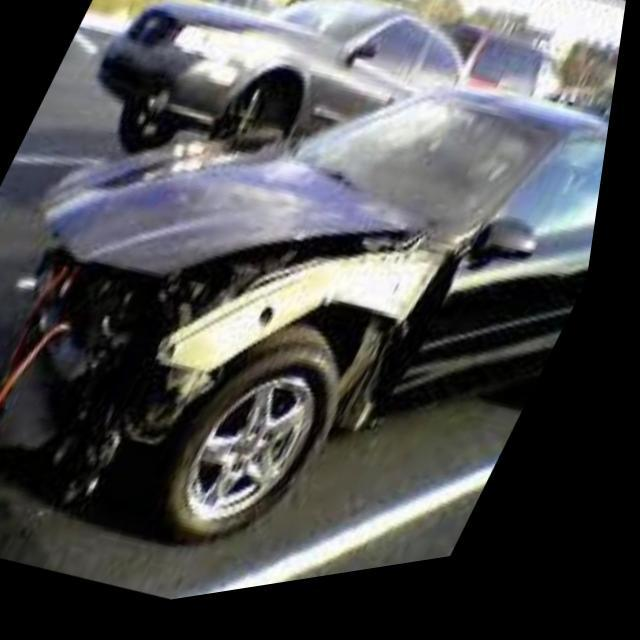no part: (0, 210, 474, 512)
